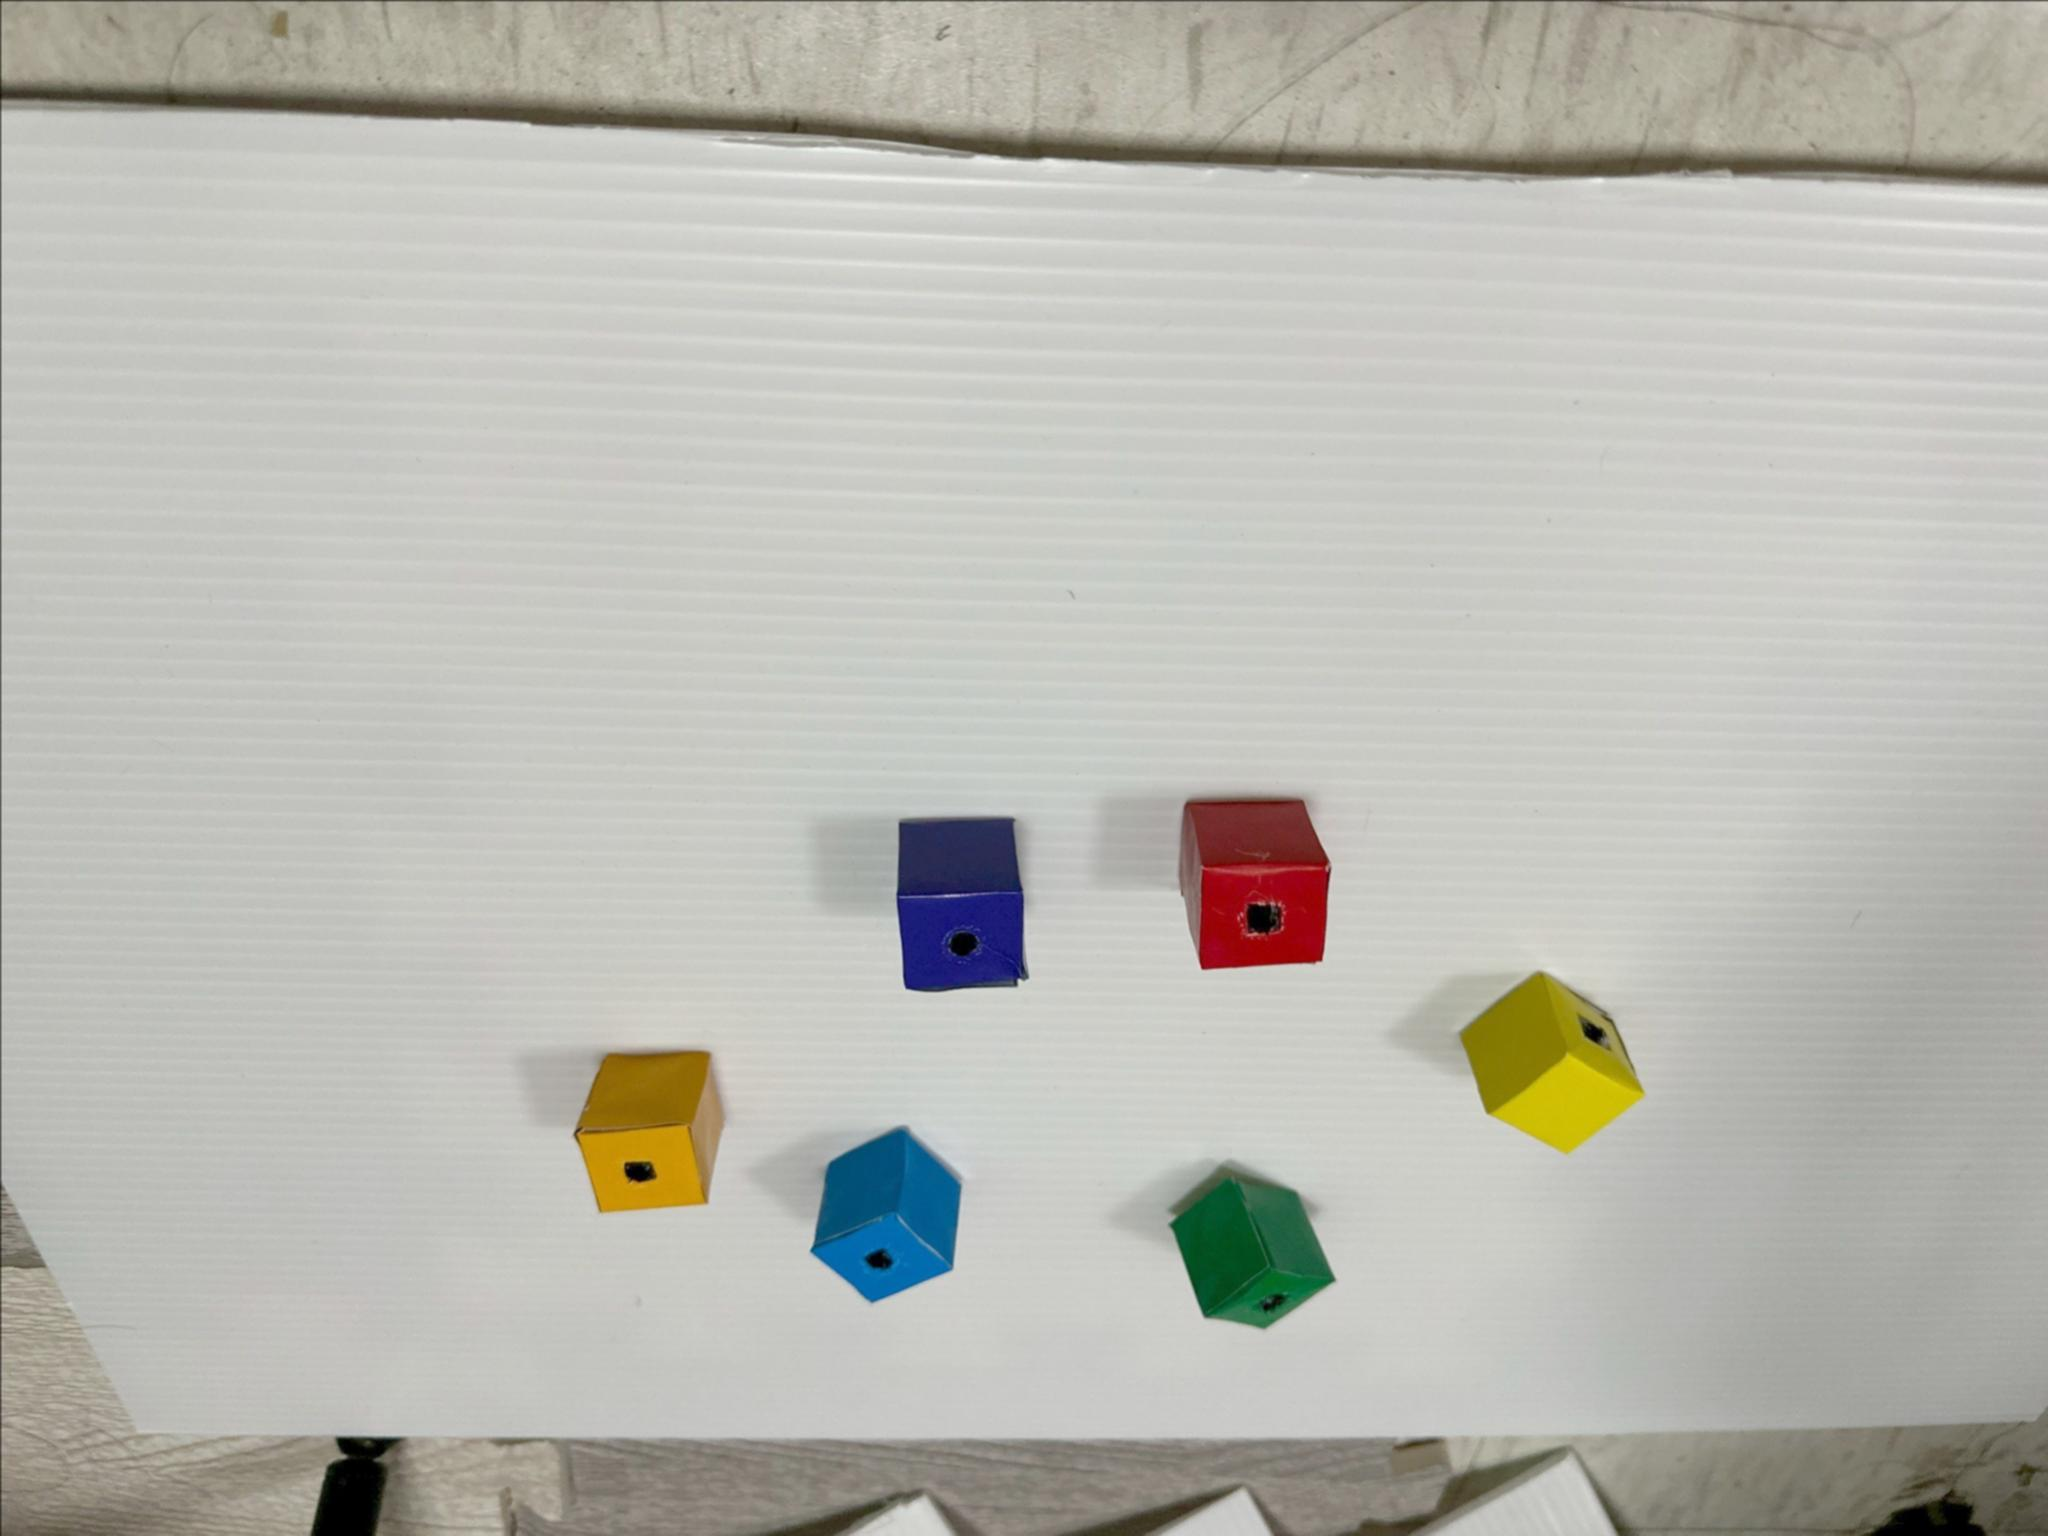cube: (1461, 973, 1643, 1154), (811, 1128, 959, 1300), (1177, 800, 1329, 968), (1171, 1176, 1334, 1328), (577, 1054, 722, 1210), (898, 818, 1026, 989)
